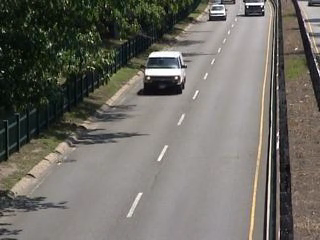car: (207, 5, 228, 23)
truck: (142, 51, 193, 95), (242, 1, 266, 17)
